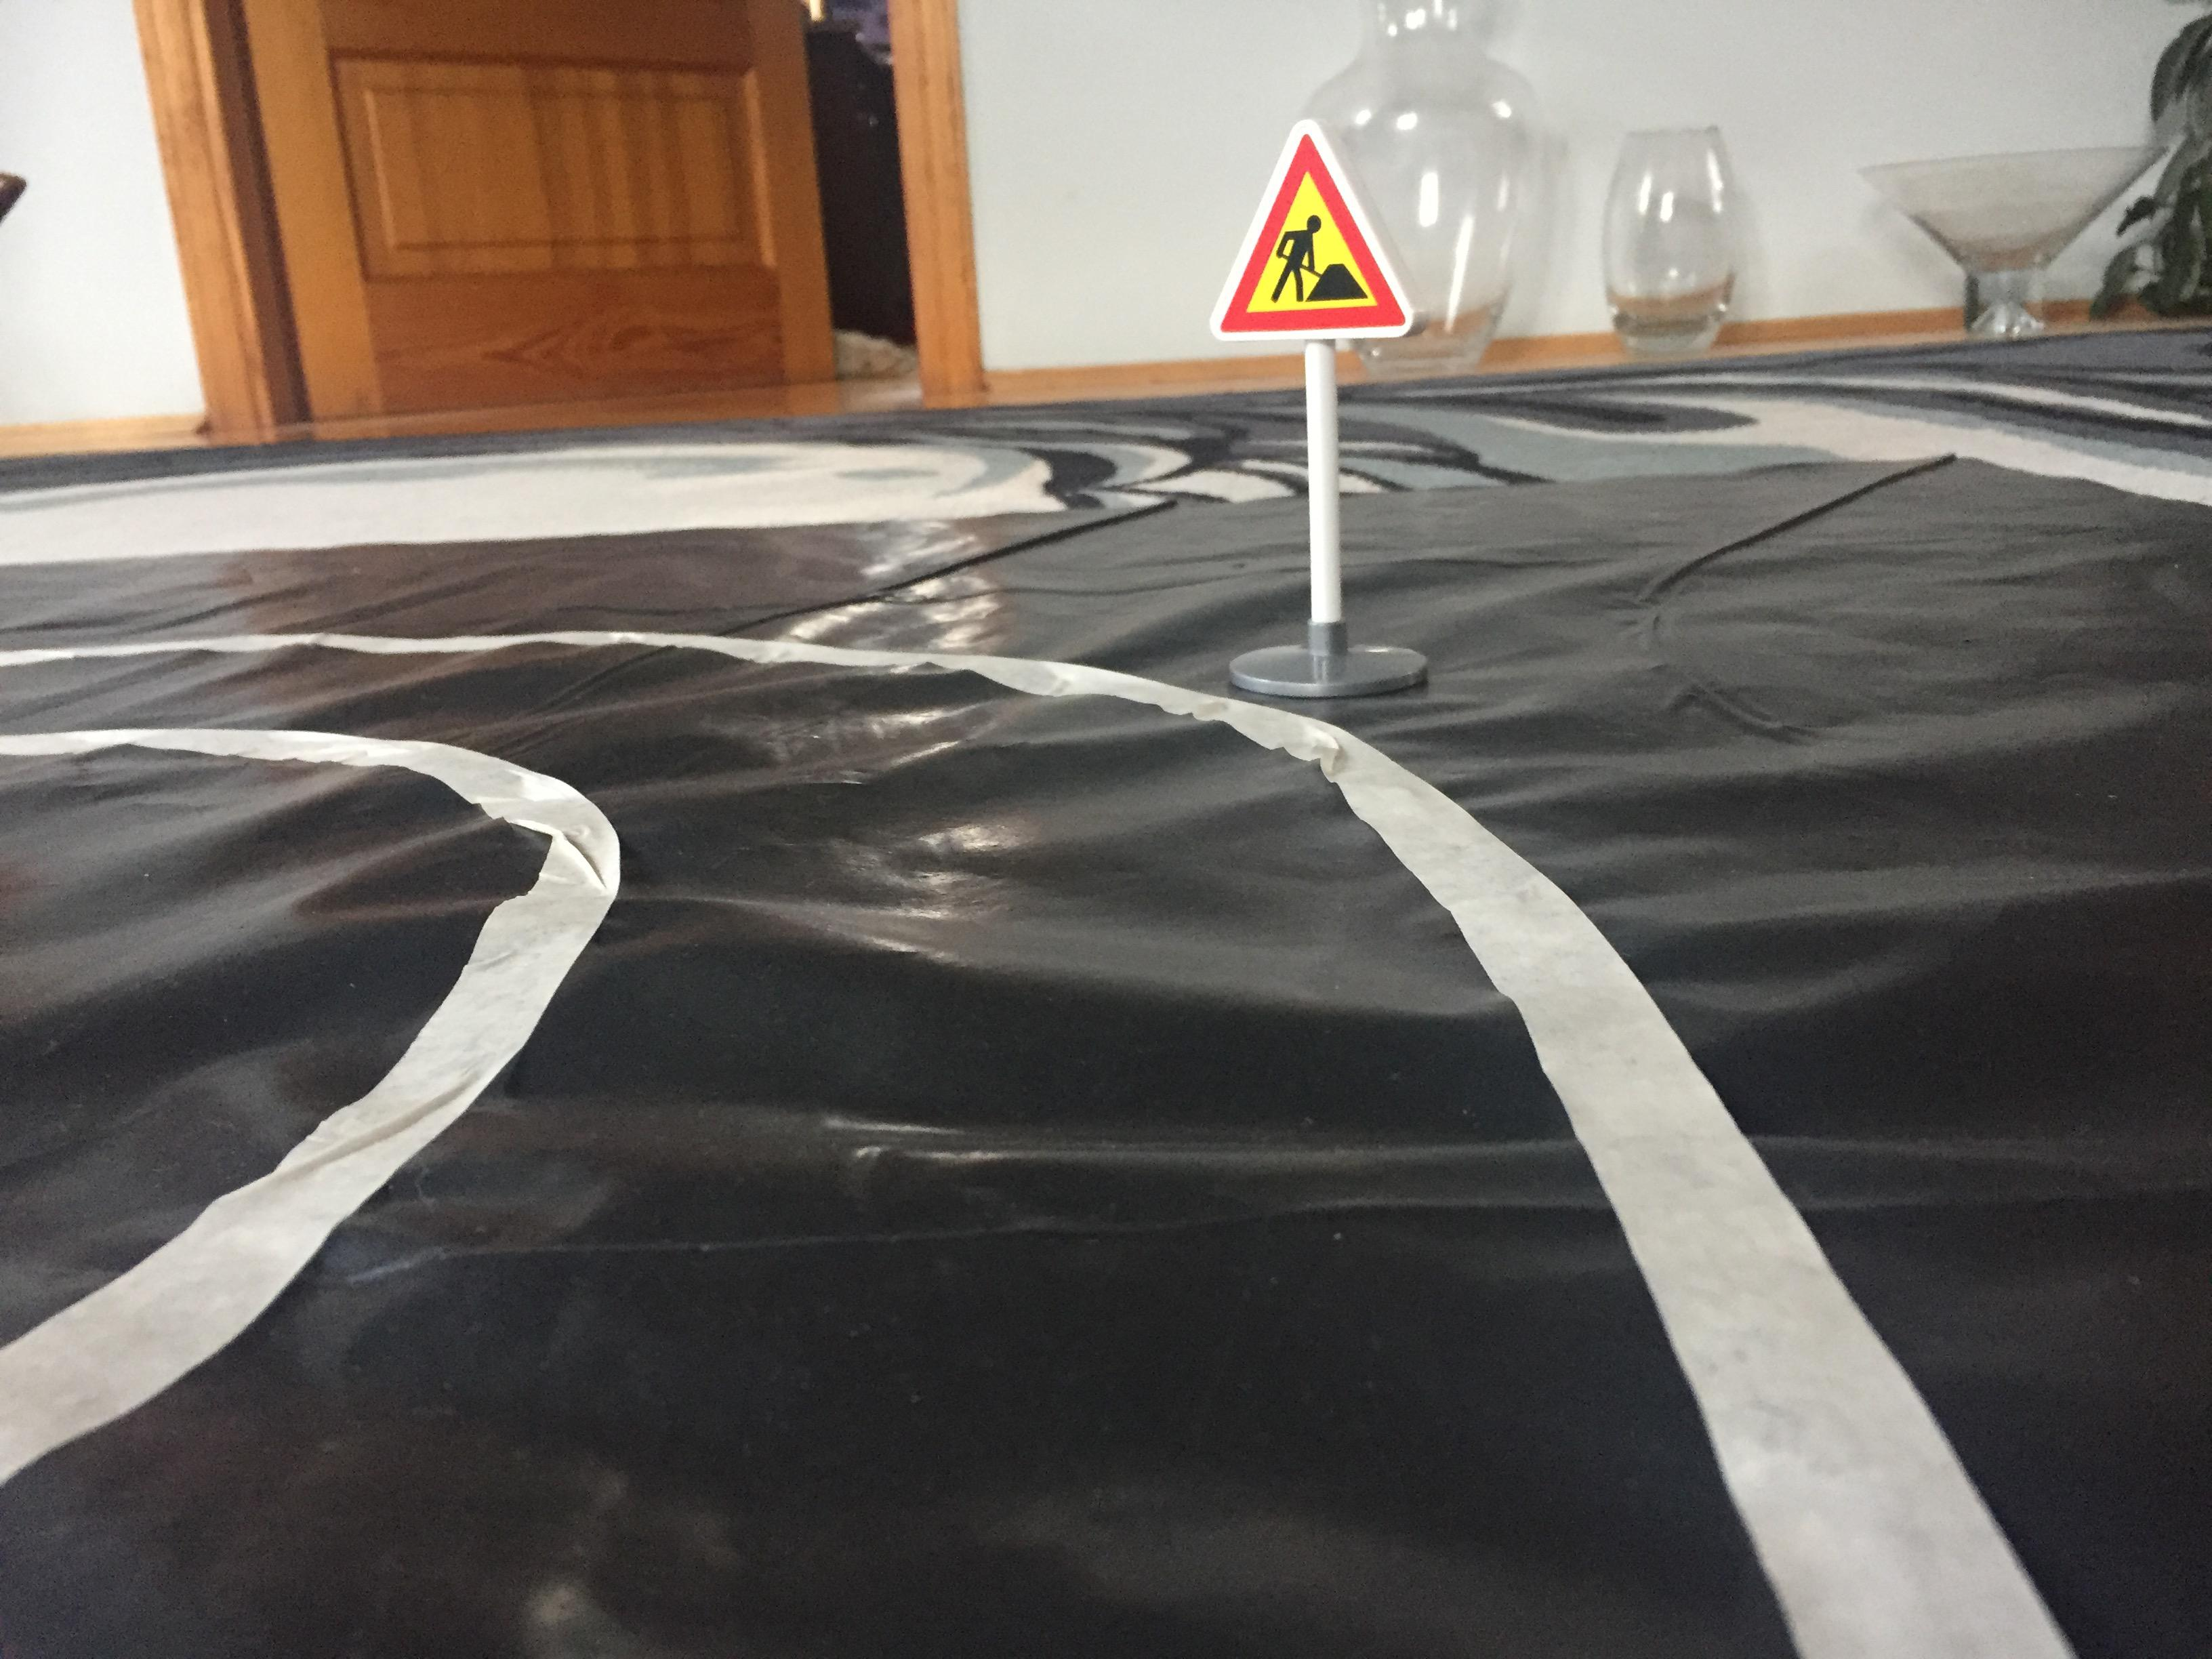work: (1202, 105, 1439, 359)
